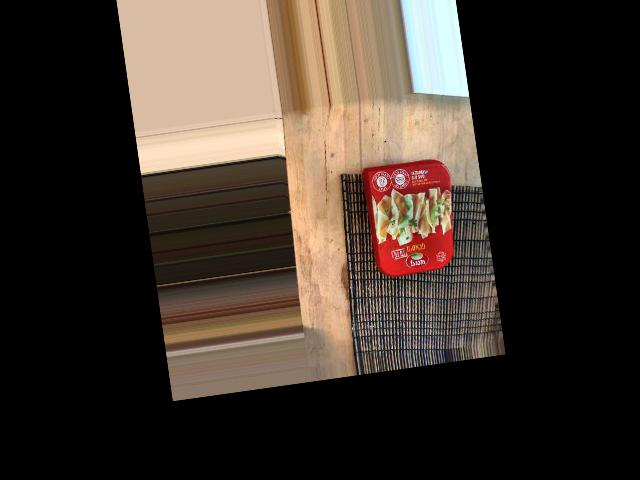cheese: (364, 221, 508, 326)
